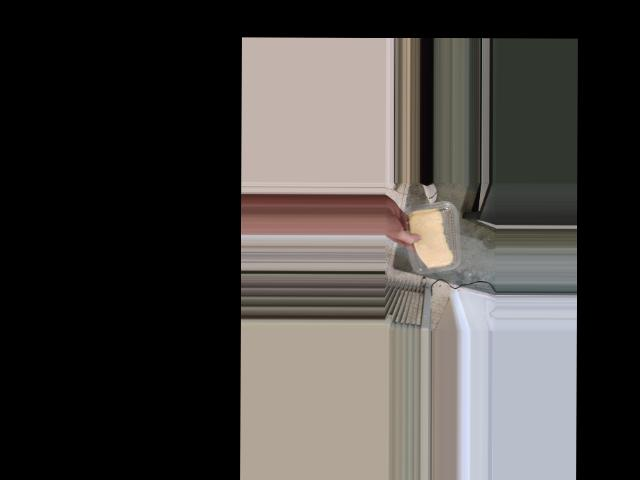cheese: (404, 202, 455, 273)
